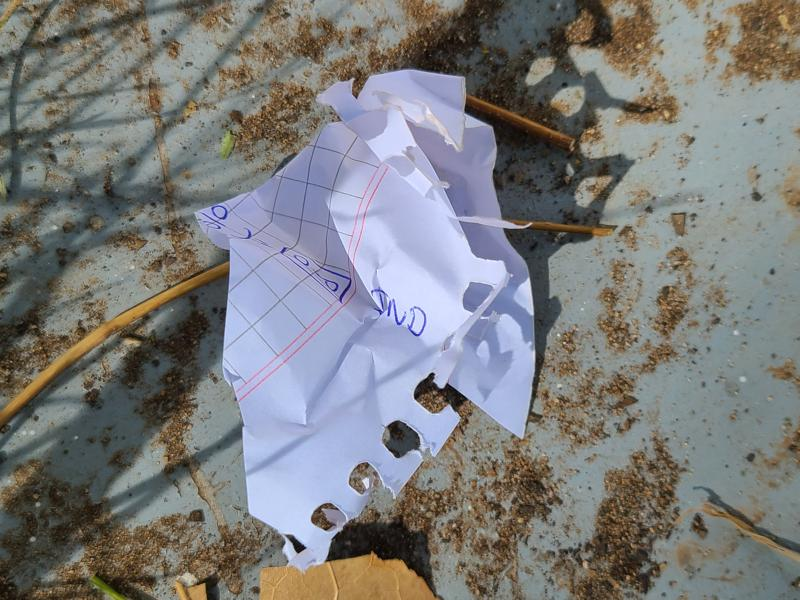papel: (199, 71, 538, 571)
